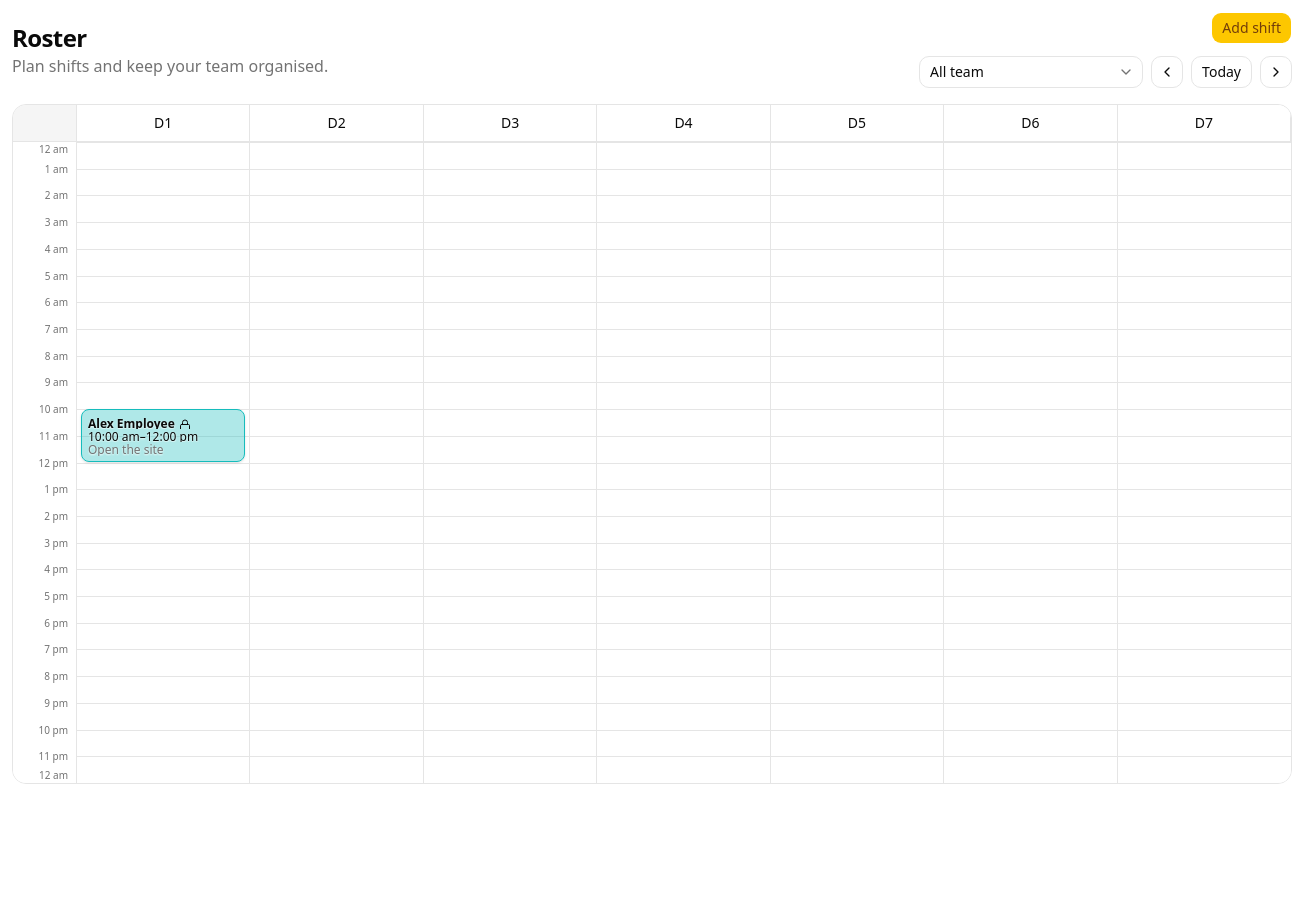
RosterCalendar › keeps locked shifts selectable while disabling mutation actions
Right-click the button "Alex Employee 10:00 am–12:00 pm Open the site": coordinates (163, 436) [82,410,244,462]
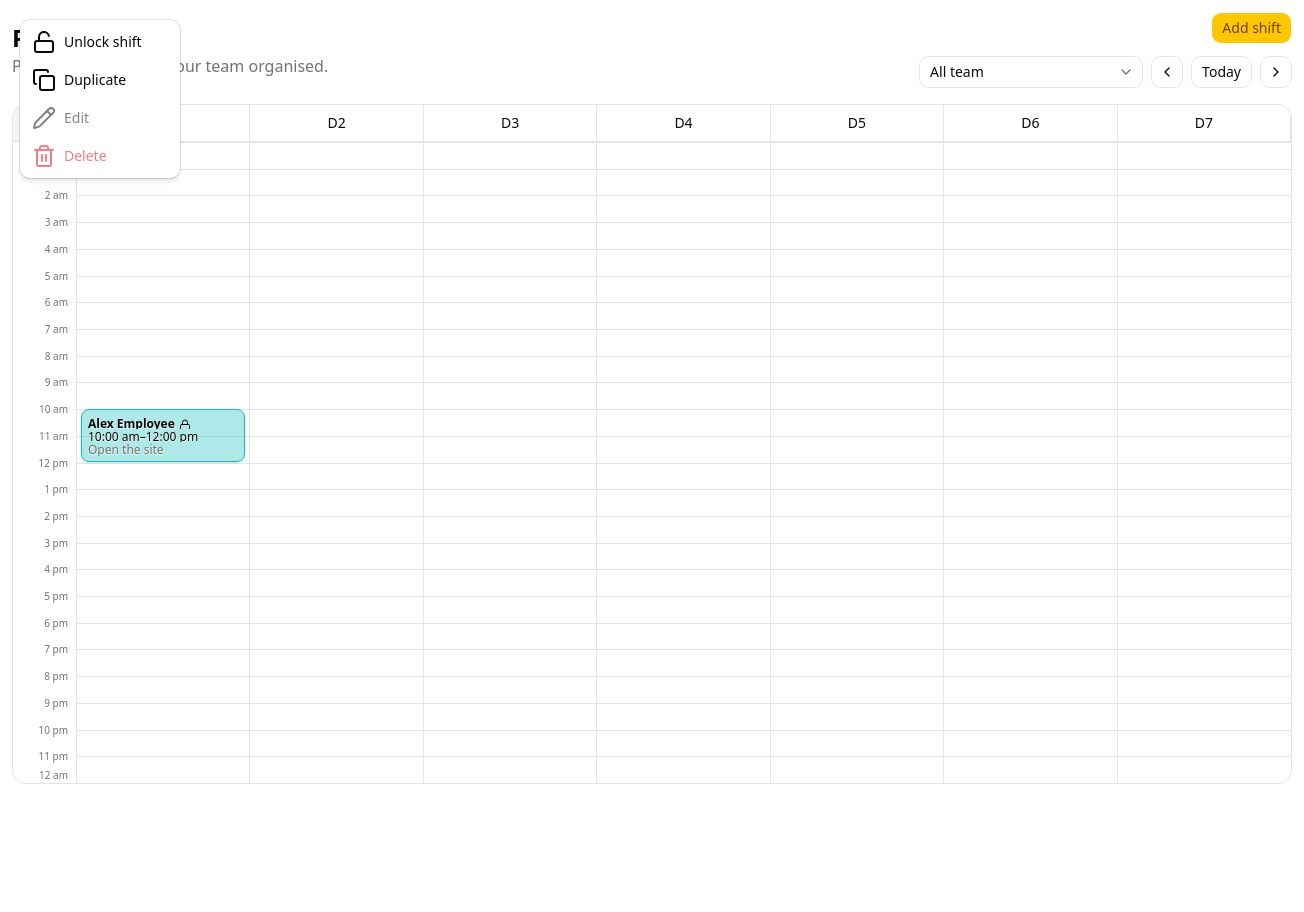
Result: the menu item "Unlock shift" is shown at [24,24,176,60]
Result: the menu item "Duplicate" is enabled at [24,62,176,98]
Result: the menu item "Edit" is disabled at [24,100,176,136]
